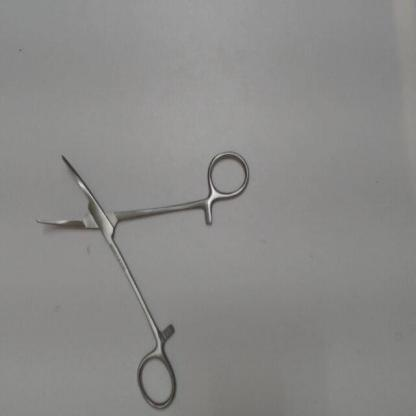Crile Artery Forceps: (30, 141, 254, 413)
